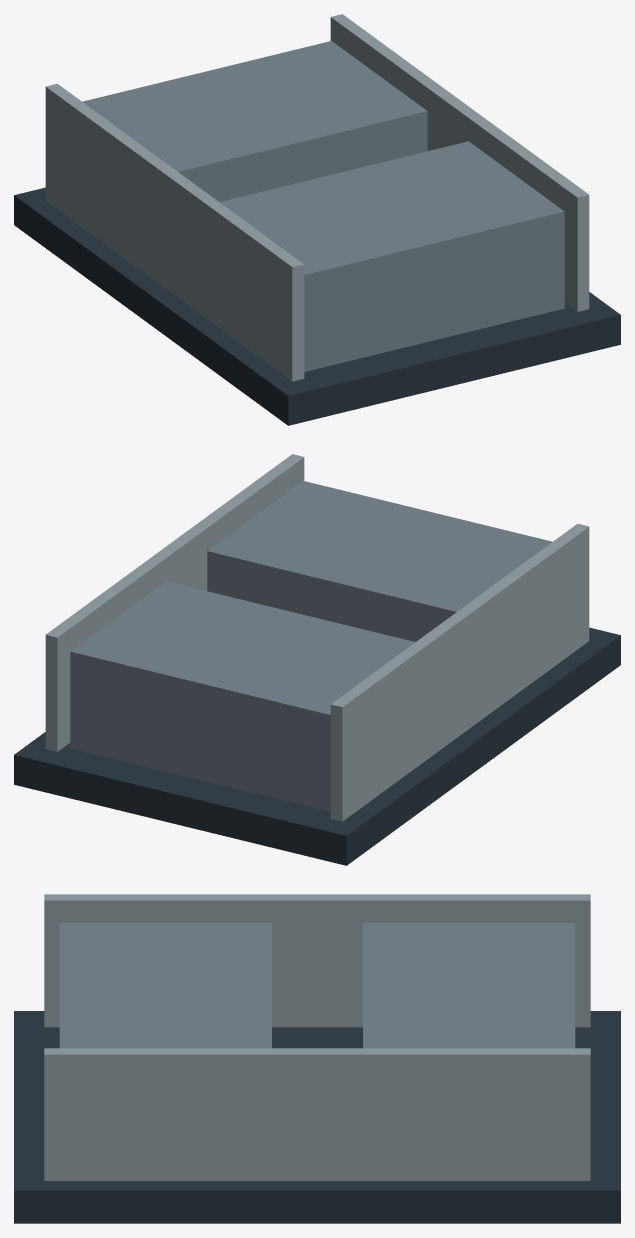
The model's file is vrx_city_plant_a_LOD1.fbx.
3 renders of one model, top to bottom at view 1: azimuth 30°, elevation 25°; view 2: azimuth 150°, elevation 25°; view 3: azimuth 270°, elevation 25°, orthographic. The views are drawn at different scales.
Parts seen in each view (by area): view 1: vrx_city_plant_a_LOD1; view 2: vrx_city_plant_a_LOD1; view 3: vrx_city_plant_a_LOD1.
Boxes of the visible parts, left/top/right/bottom form: vrx_city_plant_a_LOD1: left=14, top=14, right=620, bottom=425; vrx_city_plant_a_LOD1: left=14, top=454, right=620, bottom=865; vrx_city_plant_a_LOD1: left=14, top=894, right=620, bottom=1223.
Size of the model in its own units: 7 by 2.9 by 10.
